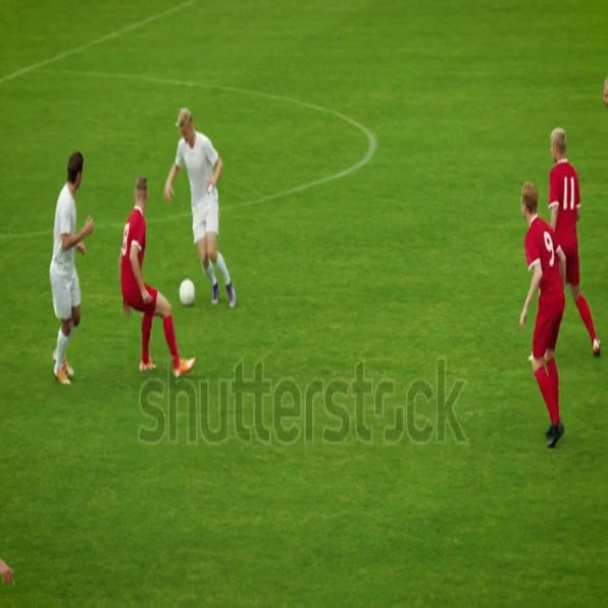ball: (181, 276, 198, 311)
